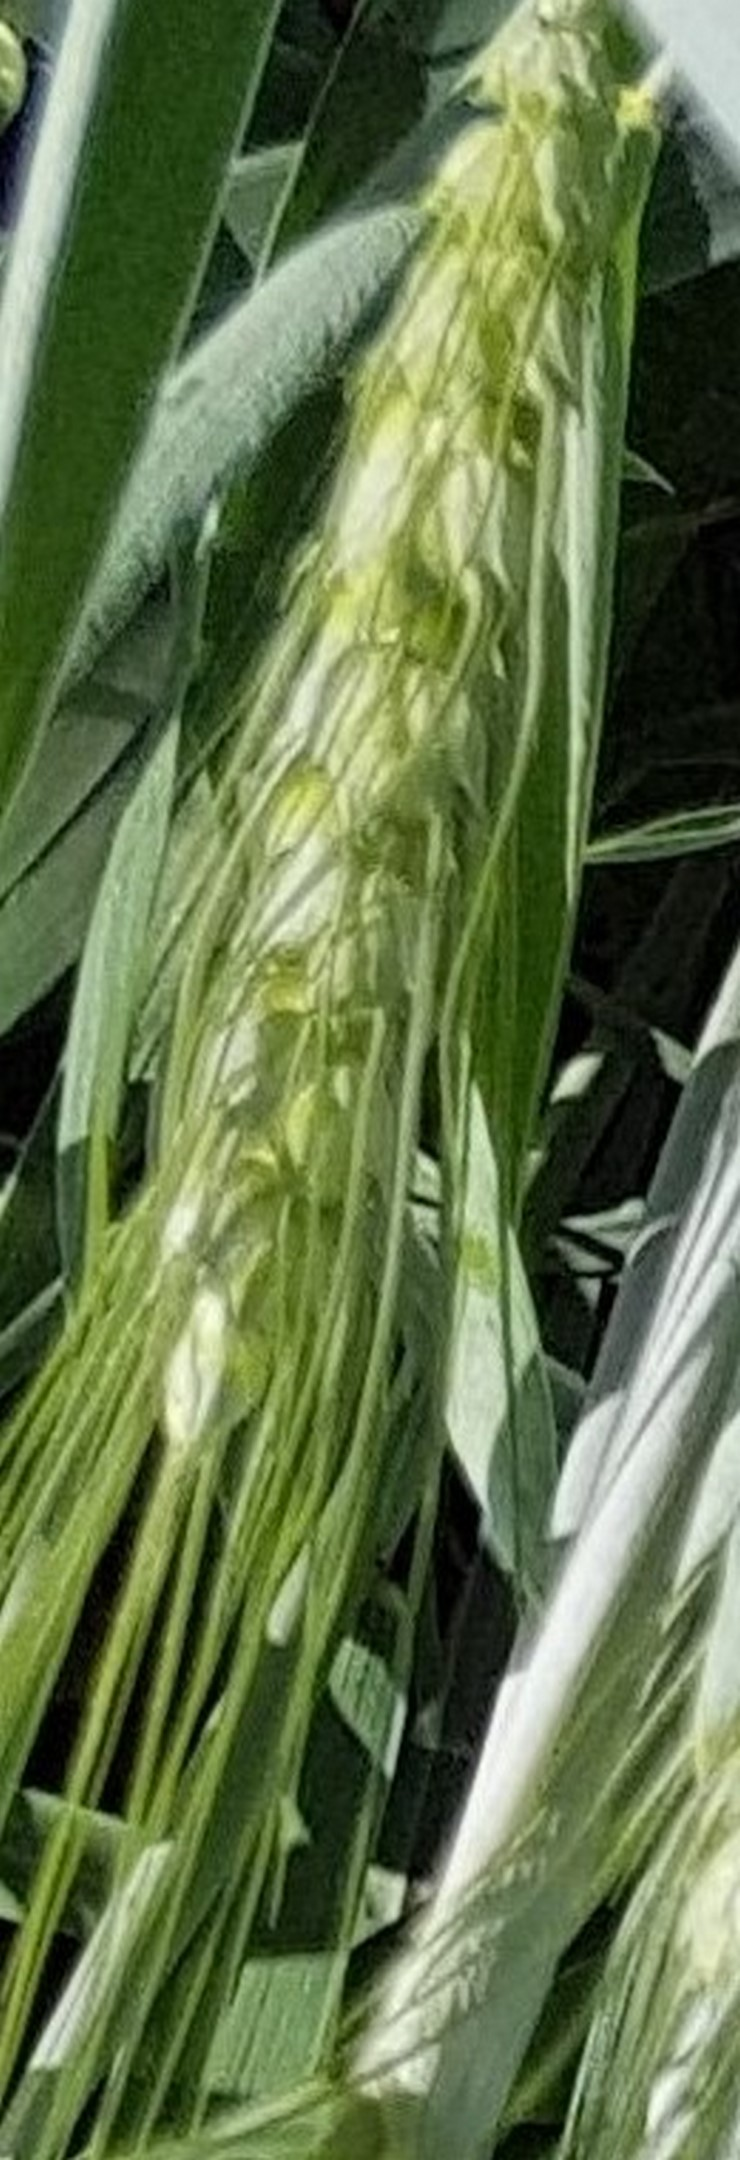Healthy Wheat: (134, 77, 633, 1456)
